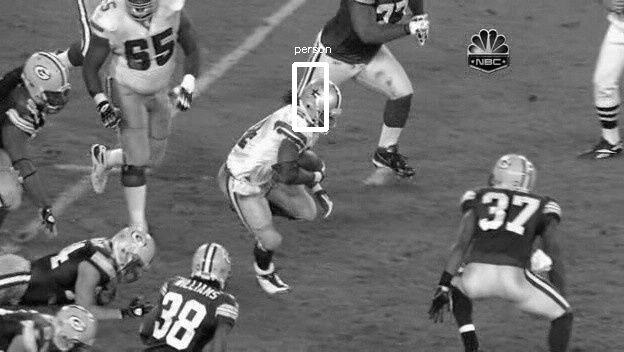person: (307, 83, 343, 131), (306, 83, 342, 131), (308, 83, 344, 131), (307, 82, 343, 130), (307, 84, 343, 132)
target_negative: (266, 84, 476, 288), (216, 315, 545, 346), (292, 140, 326, 313), (396, 292, 480, 340), (529, 243, 562, 340), (616, 342, 622, 346)
